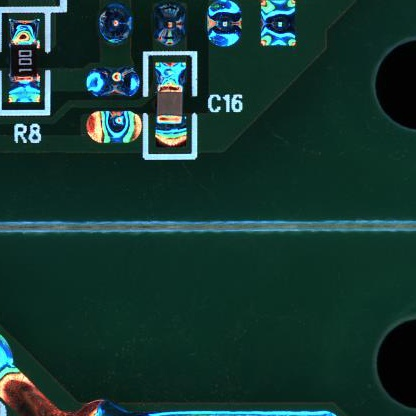spot: (86, 108, 142, 145), (258, 1, 300, 49), (86, 63, 139, 100), (205, 1, 243, 48), (96, 2, 134, 48), (152, 1, 186, 47)
